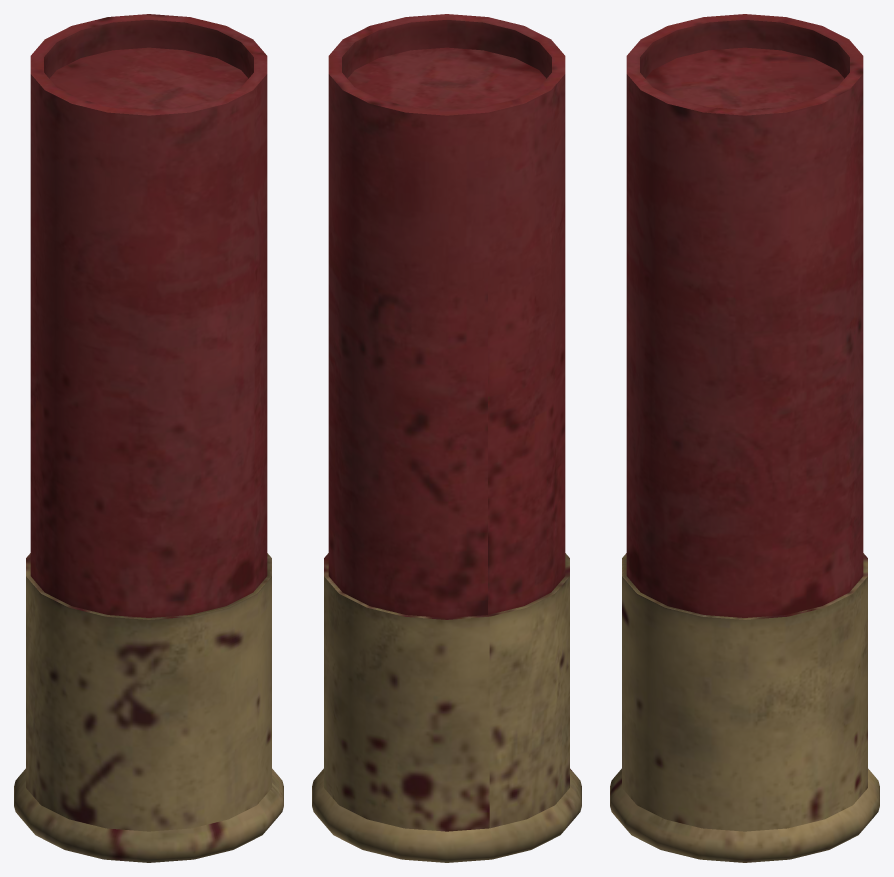
File: 12mm_blood.glb
3 views of the same model, side by side, from view 1: azimuth 30°, elevation 25°; view 2: azimuth 150°, elevation 25°; view 3: azimuth 270°, elevation 25° (orthographic).
Visible parts, largest first — view 1: 12mm_blood; view 2: 12mm_blood; view 3: 12mm_blood.
Part boxes in pixels (x1=…): 12mm_blood: x1=14, y1=14, x2=283, y2=862; 12mm_blood: x1=312, y1=14, x2=581, y2=862; 12mm_blood: x1=610, y1=14, x2=879, y2=862.
Size of the model in its own units: 0.2872 by 0.8661 by 0.2829.
Materials: 1 (1 with a texture image).
